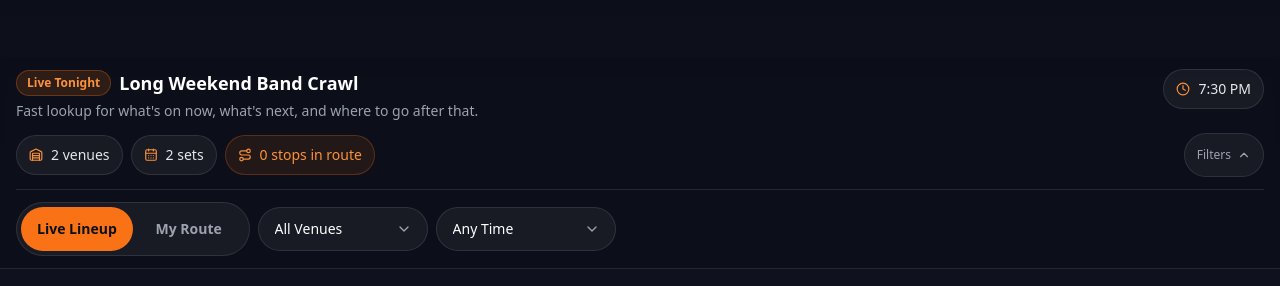
Test case: LiveContextBar › Tabs stay reachable independent of the filter panel (#665) › keeps the Tabs visible after collapsing the venue/time filters
Click the button with aria-label "hide filters": (1224, 155) [1184, 133, 1264, 177]
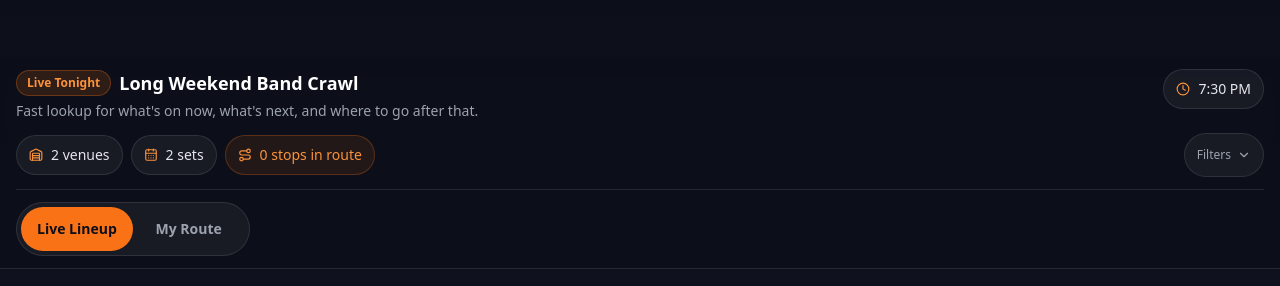
Expected: the field labelled "Time filter" is not shown
Result: the button with aria-label "show filters" is shown at [1184, 133, 1264, 177]
